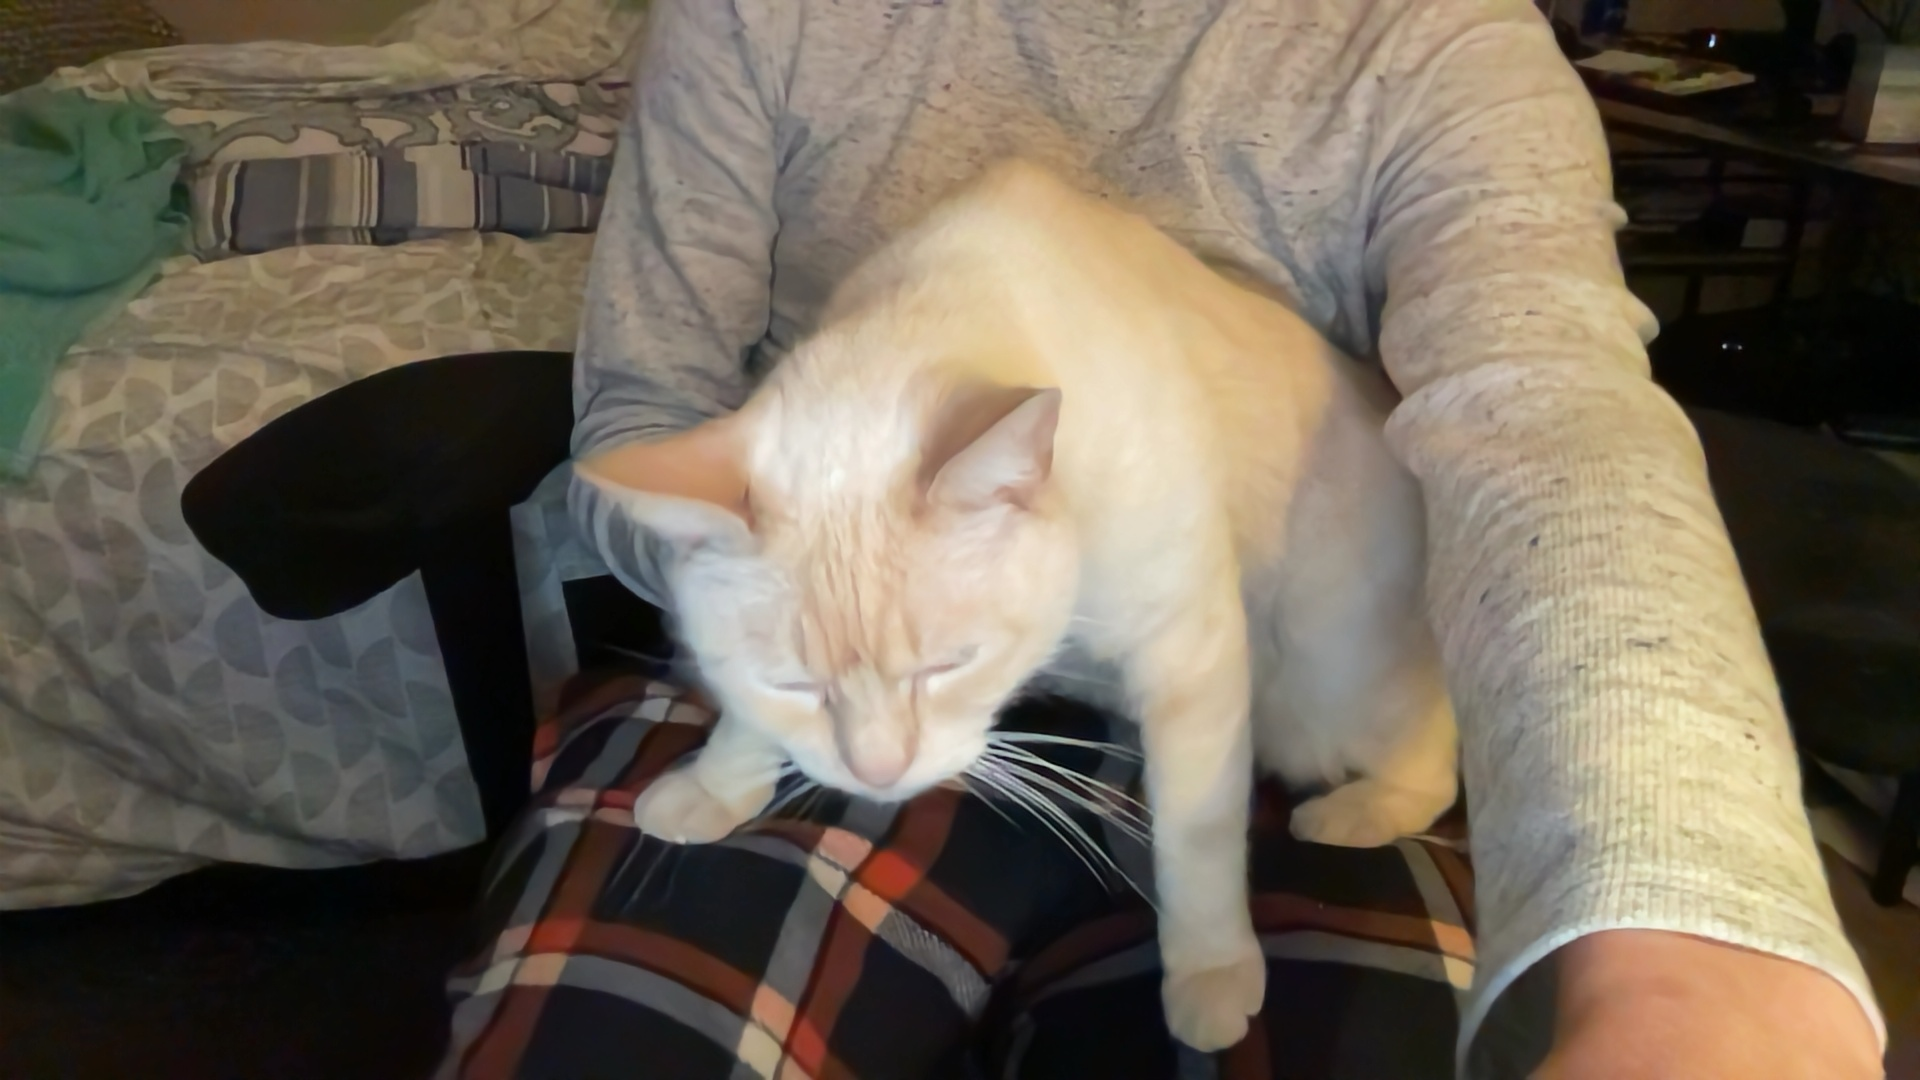cat: (620, 162, 1480, 1054)
